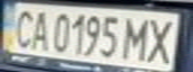0: (48, 9, 72, 54)
1: (66, 10, 87, 55)
5: (96, 12, 124, 60)
9: (81, 11, 106, 57)
A: (24, 7, 54, 52)
C: (6, 6, 39, 49)
M: (118, 14, 154, 62)
X: (142, 15, 181, 64)
